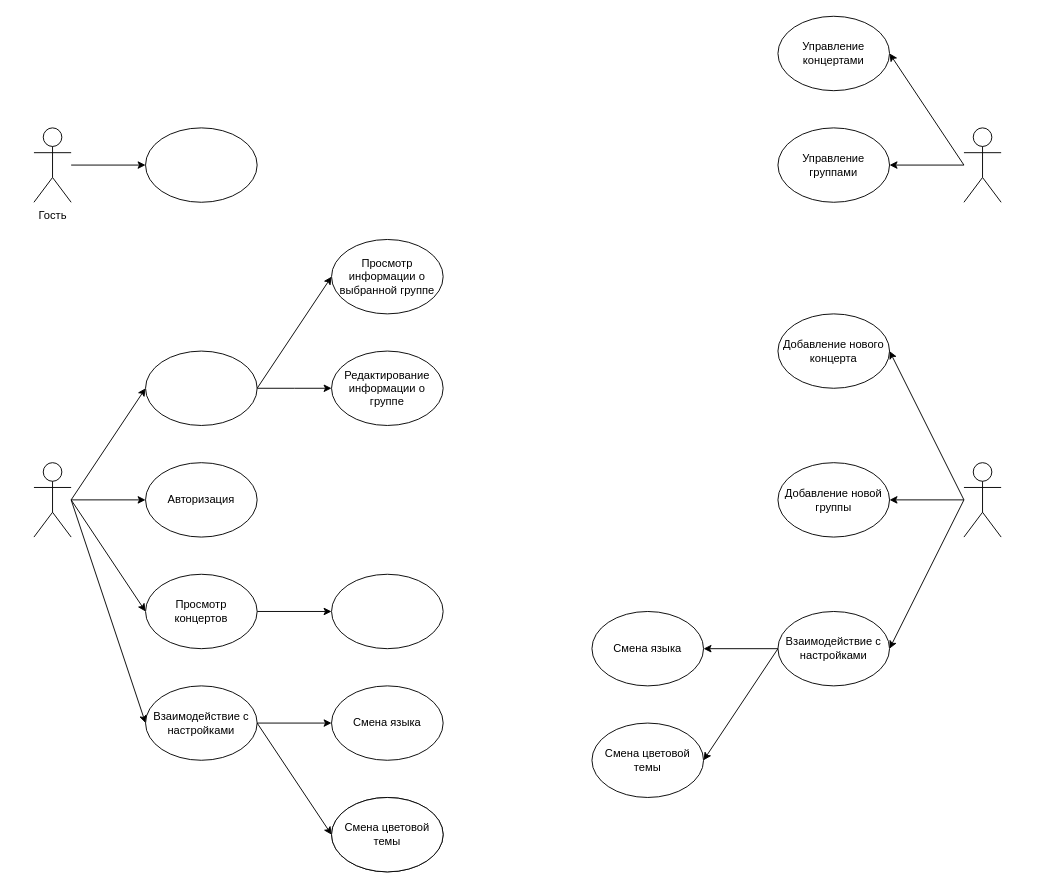
Image size: 1039x888. Some labels were removed from this diagram. The shapes that lost their labels are listed below. From the top down, each one's centre as x and y in pixels, then its label:
At [201,164]: "Регистрация".
At [982,164]: "Программист".
At [201,387]: "Просмотр групп".
At [52,499]: "Пользователь".
At [982,499]: "Администратор".
At [387,611]: "Просмотр информации о выбранном концерте".
